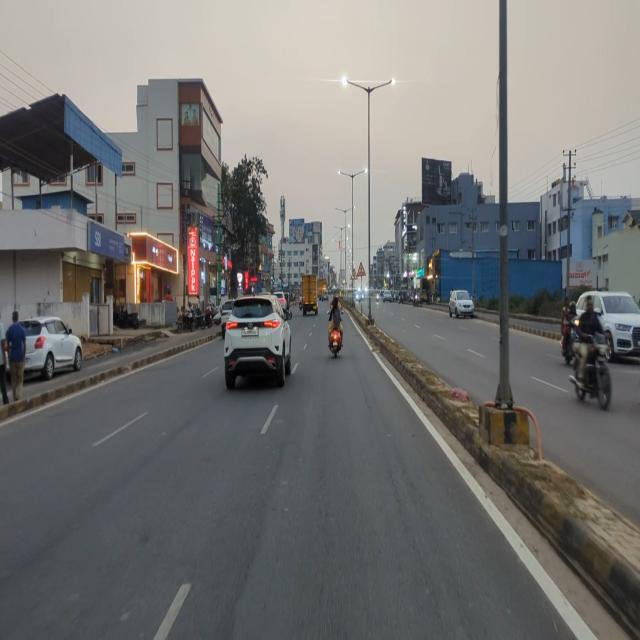bien_cam: (357, 260, 366, 277), (350, 266, 358, 282)
